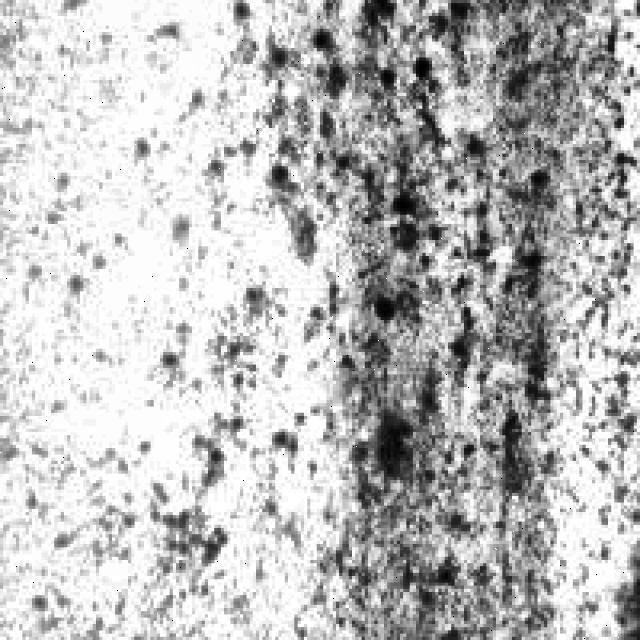Rolled_in_Scale: (96, 0, 525, 480)
